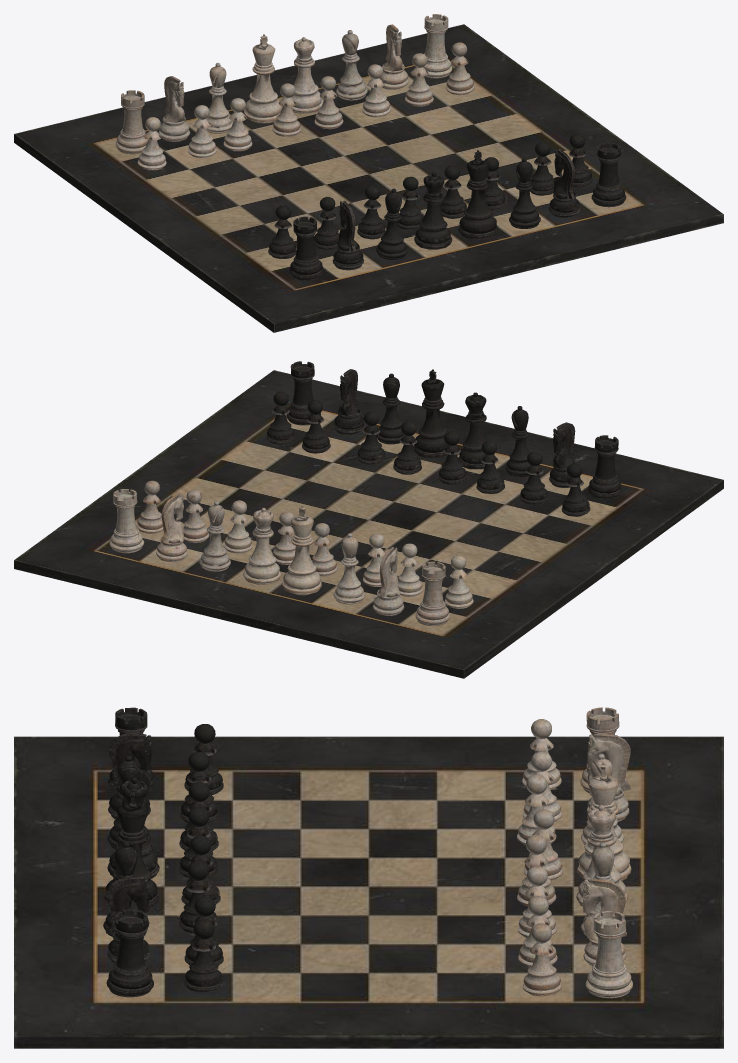
Rendered from chessSet.glb.
3 views of the same model, one above another, from view 1: azimuth 30°, elevation 25°; view 2: azimuth 150°, elevation 25°; view 3: azimuth 270°, elevation 25° (orthographic). The views are drawn at different scales.
Visible parts, largest first — view 1: Chess_board, Piece_06_001, Piece_06, Piece_05_001, Piece_05, Piece_02_002, Piece_02_003, Piece_02_001, Piece_03_003, Piece_02, Piece_03_001, Piece_03_002 (+21 smaller); view 2: Chess_board, Piece_06, Piece_06_001, Piece_05, Piece_02, Piece_02_002, Piece_02_001, Piece_03, Piece_05_001, Piece_03_001, Piece_03_003, Piece_02_003 (+21 smaller); view 3: Chess_board, Piece_02_003, Piece_02, Piece_03, Piece_03_003, Piece_06_001, Piece_03_002, Piece_06, Piece_03_001, Piece_01_015, Piece_01, Piece_05 (+17 smaller).
Part boxes in pixels (x1,y1,x2,y2): Chess_board: (14,24,723,332); Piece_06_001: (458,150,498,239); Piece_06: (243,34,282,123); Piece_05_001: (414,172,452,249); Piece_05: (291,37,323,113); Piece_02_002: (289,216,323,280); Piece_02_003: (591,142,626,207); Piece_02_001: (115,90,147,154); Piece_03_003: (548,149,580,217); Piece_02: (423,14,452,78); Piece_03_001: (158,76,190,141); Piece_03_002: (332,200,363,270); Chess_board: (14,370,723,678); Piece_06: (282,506,321,595); Piece_06_001: (413,369,448,458); Piece_05: (243,507,281,584); Piece_02: (109,489,144,553); Piece_02_002: (587,435,622,499); Piece_02_001: (415,561,449,625); Piece_03: (156,493,187,562); Piece_05_001: (458,392,494,469); Piece_03_001: (372,547,404,615); Piece_03_003: (333,369,364,435); Piece_02_003: (286,361,320,425); Chess_board: (14,736,723,1048); Piece_02_003: (106,909,153,997); Piece_02: (585,911,632,998); Piece_03: (582,879,626,965); Piece_03_003: (106,877,149,963); Piece_06_001: (104,790,158,908); Piece_03_002: (107,733,151,818); Piece_06: (577,762,631,880); Piece_03_001: (586,733,630,821); Piece_01_015: (184,919,223,992); Piece_01: (522,923,561,996); Piece_05: (576,804,628,906).
Bounding box in the file's own units: 200 × 38.47 × 200.
3 materials, 3 textured.
